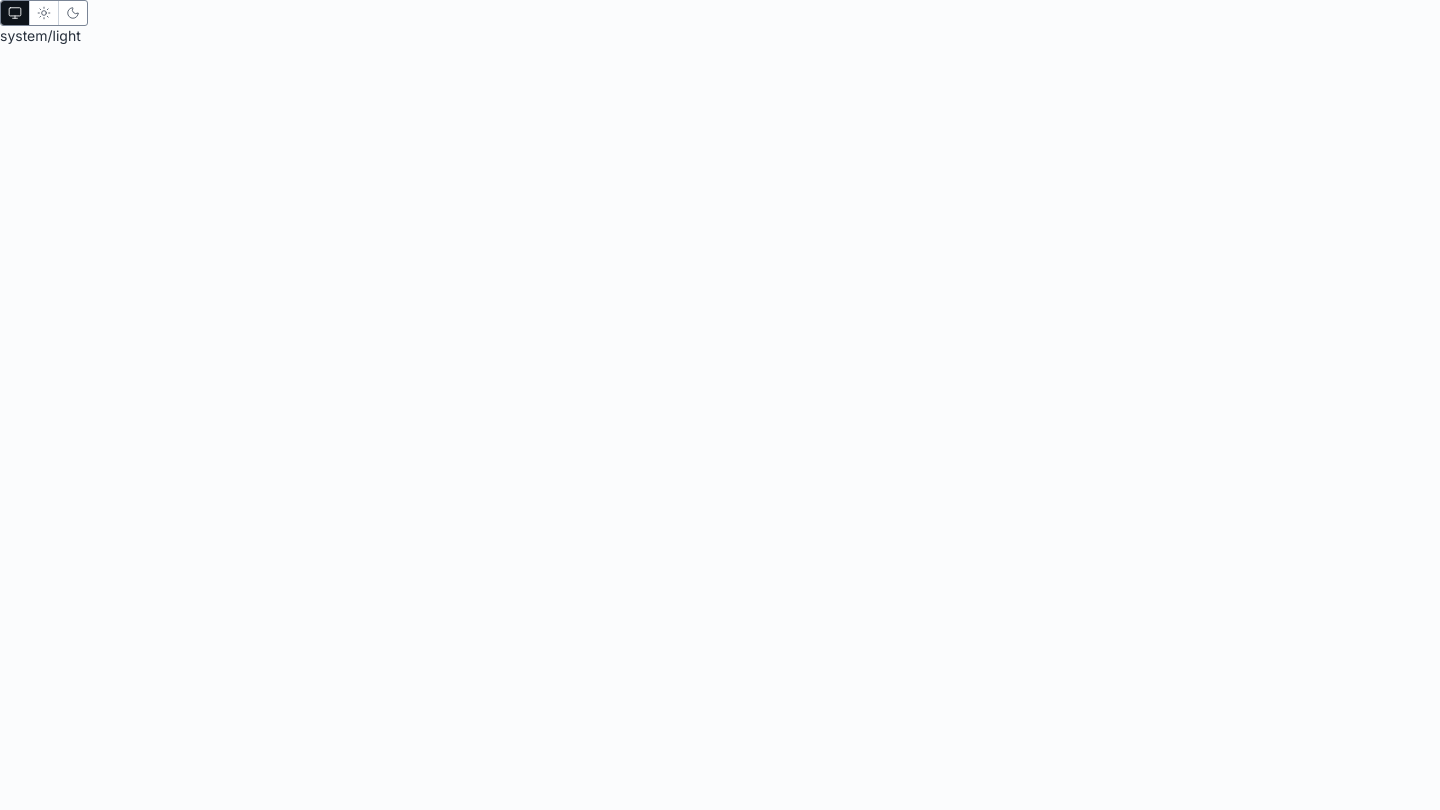
Test: ThemeProvider and ThemeSwitch › works without matchMedia and without storage
Expected: the text "system/light" is shown, [0,27,81,44]
Click the radio button named "Dark" at (72, 13), box [58,1,87,25]
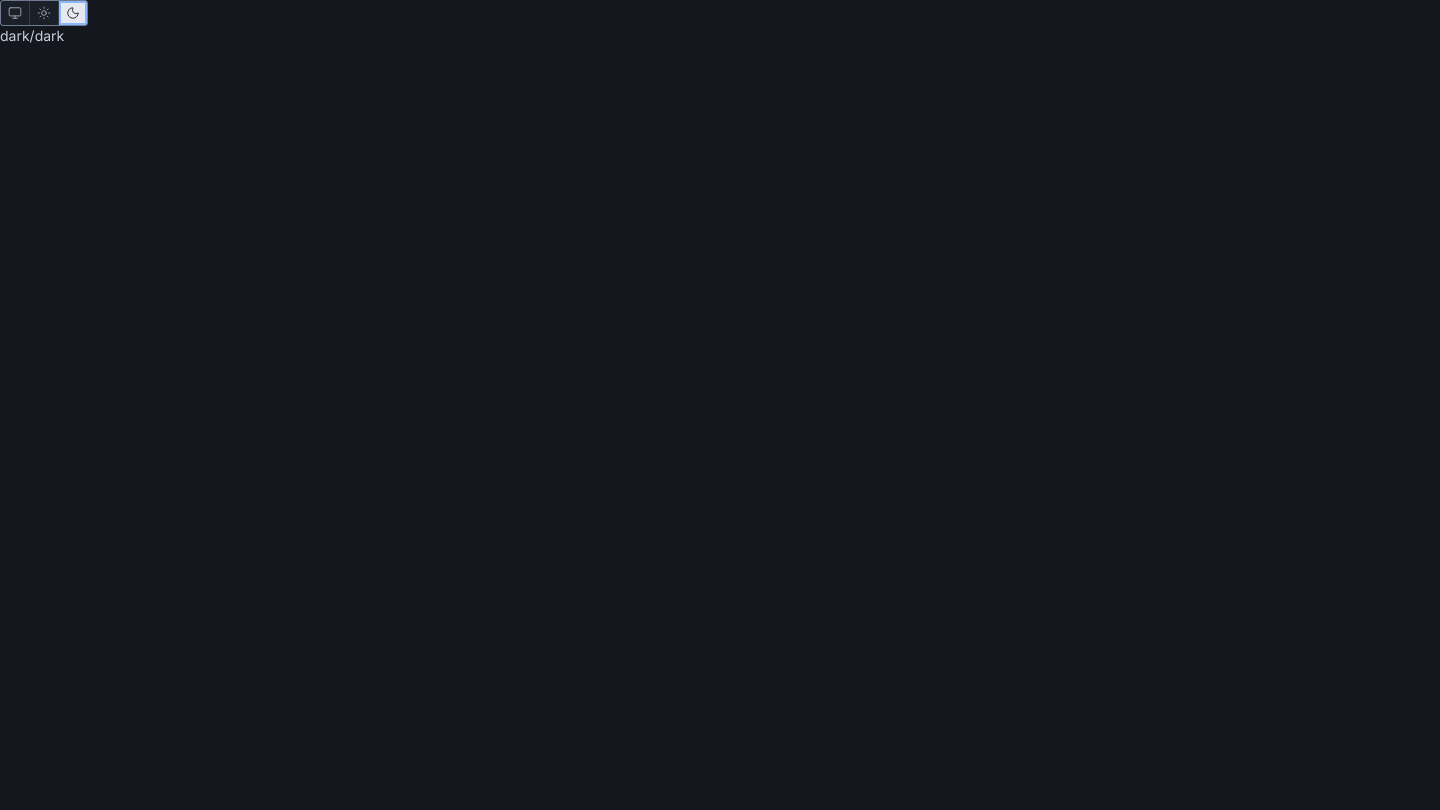
Result: the text "dark/dark" is shown at [0,27,64,44]
